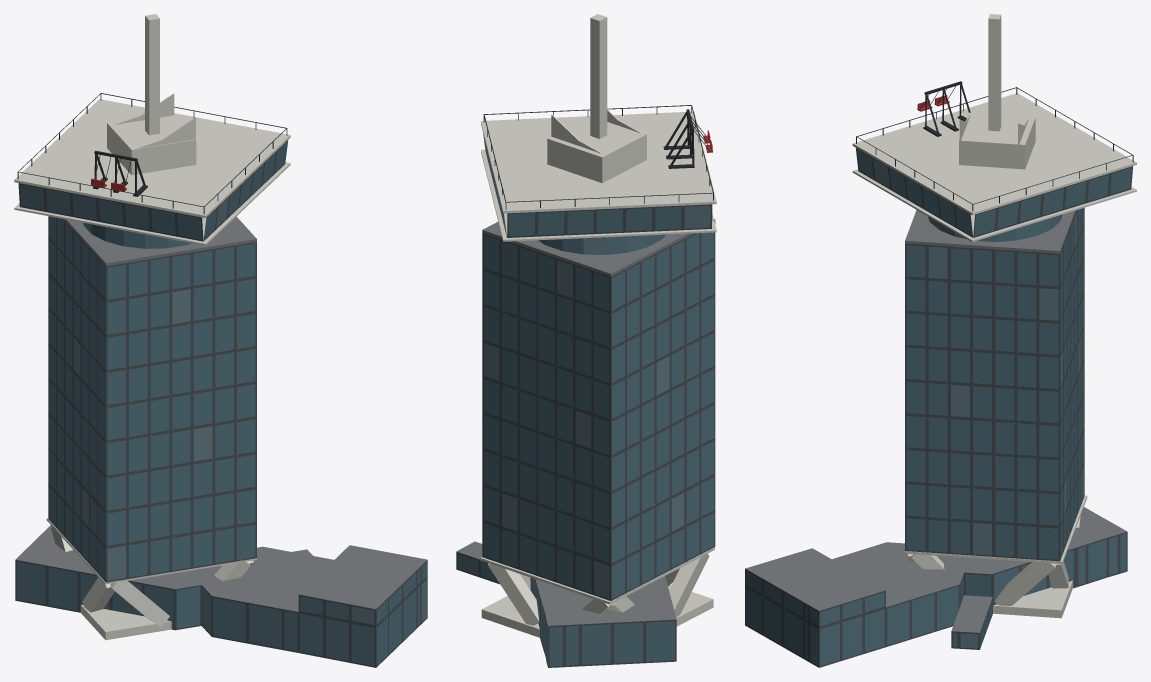
File: adam-toren-far.glb
The picture shows the model from 3 angles, left to right: view 1: azimuth 30°, elevation 25°; view 2: azimuth 150°, elevation 25°; view 3: azimuth 270°, elevation 25°; orthographic projection. The views are drawn at different scales.
Visible parts, largest first — view 1: adam-toren-0-glass, adam-toren-0-concrete, adam-toren-0-frame, adam-toren-0-roof, adam-toren-0-glow, adam-toren-0-steel; view 2: adam-toren-0-glass, adam-toren-0-concrete, adam-toren-0-frame, adam-toren-0-roof, adam-toren-0-glow, adam-toren-0-steel; view 3: adam-toren-0-glass, adam-toren-0-concrete, adam-toren-0-frame, adam-toren-0-roof, adam-toren-0-glow, adam-toren-0-steel.
Part boxes in pixels (box(x1,y1,x2,y2)): adam-toren-0-glass: box(16, 141, 426, 665); adam-toren-0-concrete: box(14, 14, 290, 640); adam-toren-0-frame: box(15, 140, 427, 667); adam-toren-0-roof: box(15, 216, 426, 611); adam-toren-0-glow: box(73, 197, 426, 634); adam-toren-0-steel: box(17, 93, 287, 214); adam-toren-0-glass: box(457, 134, 714, 666); adam-toren-0-concrete: box(480, 14, 716, 637); adam-toren-0-frame: box(456, 135, 715, 667); adam-toren-0-roof: box(456, 219, 715, 625); adam-toren-0-glow: box(483, 205, 710, 598); adam-toren-0-steel: box(483, 105, 713, 209); adam-toren-0-glass: box(746, 149, 1131, 665); adam-toren-0-concrete: box(852, 14, 1136, 618); adam-toren-0-frame: box(745, 148, 1132, 667); adam-toren-0-roof: box(745, 210, 1126, 632); adam-toren-0-glow: box(810, 159, 1084, 665); adam-toren-0-steel: box(856, 81, 1133, 211).
Size of the model in its own units: 55.63 by 99 by 62.39.
